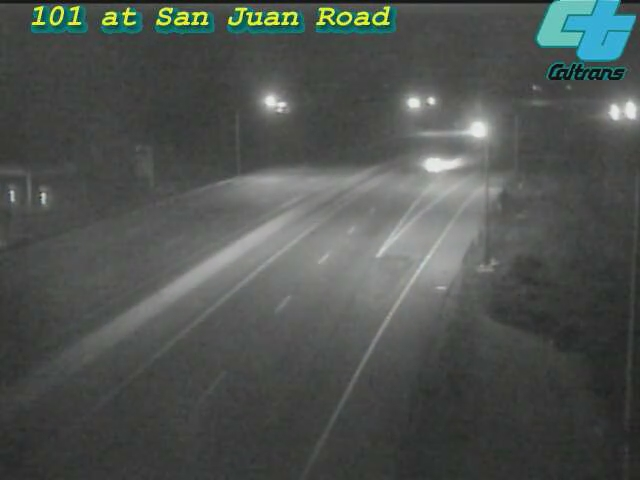vehicle: (395, 123, 475, 203), (453, 104, 503, 154), (592, 87, 640, 137), (606, 85, 640, 135)
